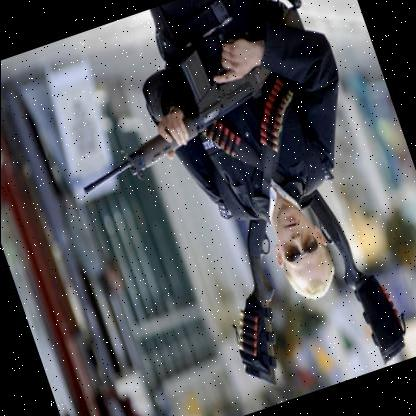rifle: (48, 21, 297, 200)
